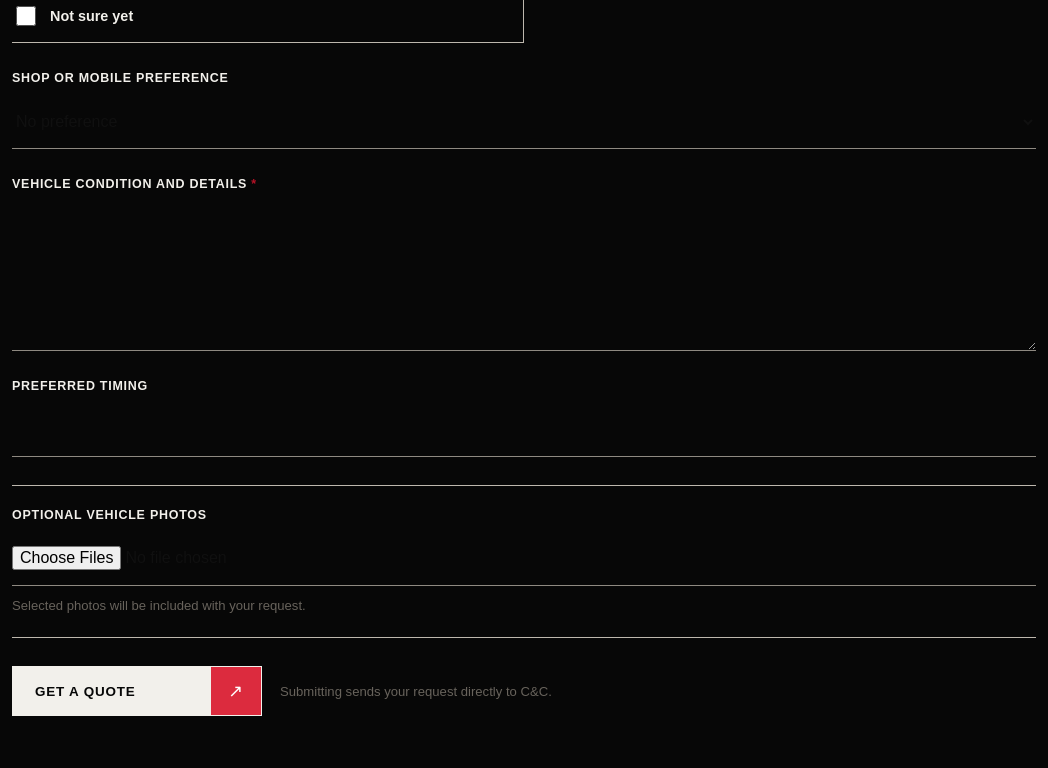
ContactForm › shows inline errors before sending a quote request
The width and height of the screenshot is (1048, 768).
(page scrolled)
What coordinates should you click on to do the following:
click the button "Get a quote"
I would click on:
 (137, 691)
Its box is [12,666,262,716].
(page scrolled)
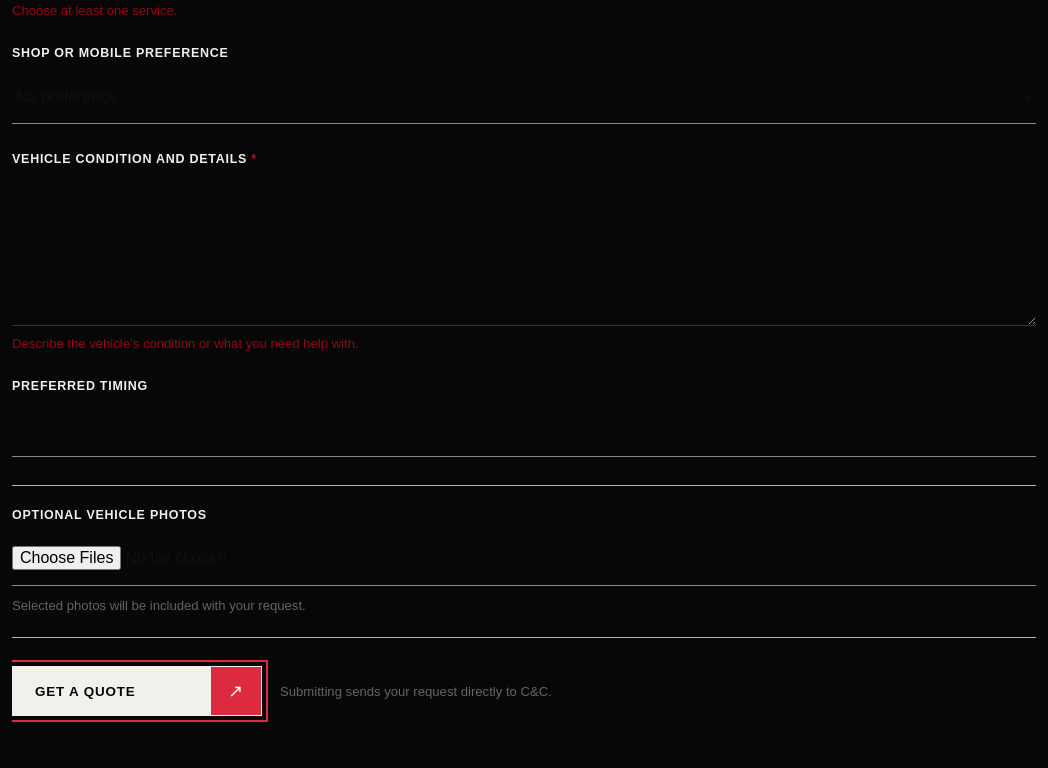
Now the text "Choose at least one service." is shown, box [12,3,177,18]
